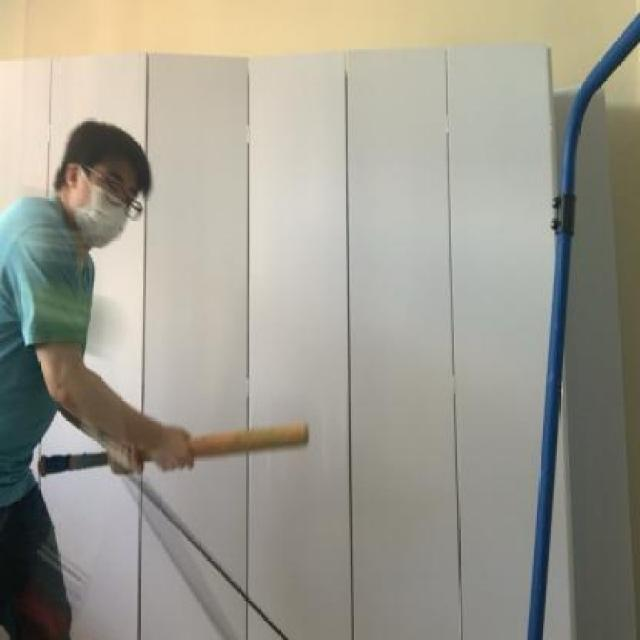baseball: (7, 272, 136, 376)
